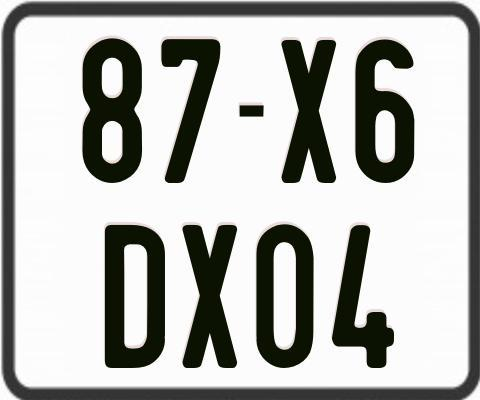0: (256, 224, 316, 370)
4: (330, 223, 398, 370)
6: (354, 39, 418, 185)
7: (158, 38, 219, 188)
8: (81, 38, 146, 189)
D: (104, 225, 167, 373)
X: (281, 40, 342, 183), (182, 225, 237, 372)
